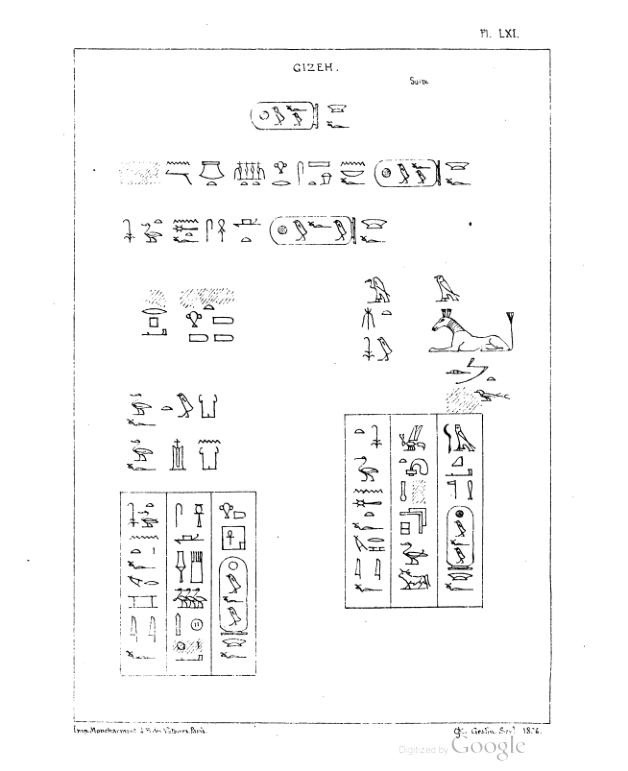circle: (264, 213, 360, 248), (247, 98, 324, 136), (216, 555, 251, 638), (372, 155, 445, 191), (441, 503, 478, 572)
